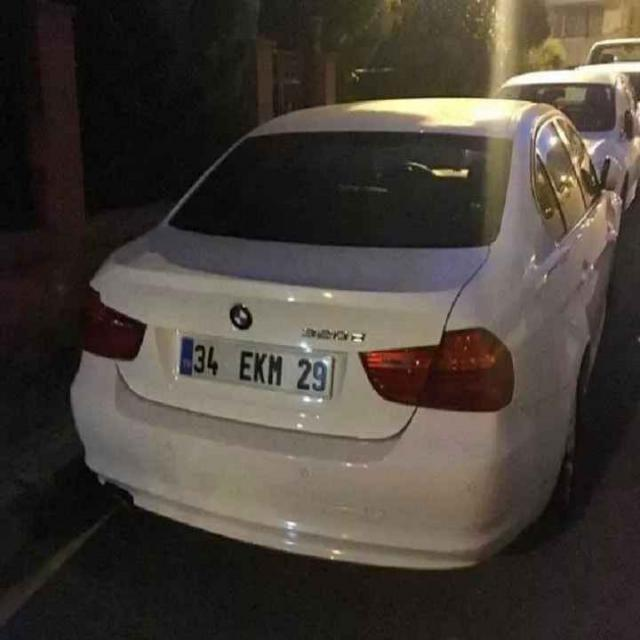plate: (172, 334, 335, 402)
